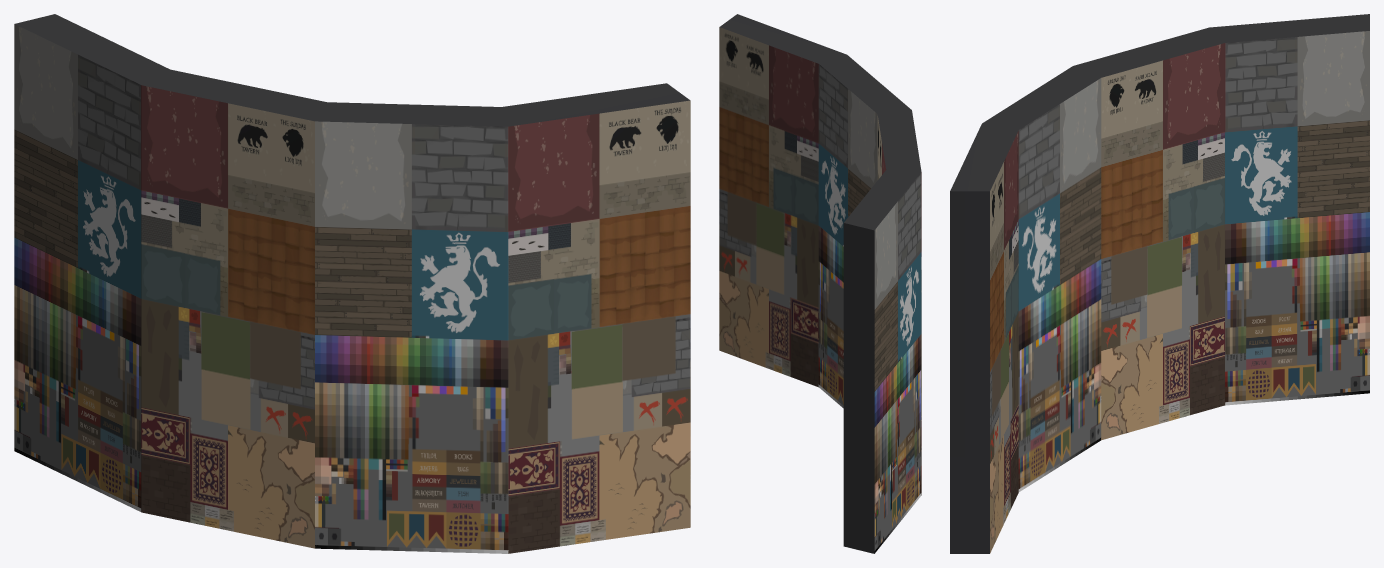
The model's file is kingdom_SM_Bld_Castle_Wall_Corner_L_01.gltf.
3 views of the same model, side by side, from view 1: azimuth 30°, elevation 25°; view 2: azimuth 150°, elevation 25°; view 3: azimuth 270°, elevation 25° (orthographic). The views are drawn at different scales.
Parts seen in each view (by area): view 1: SM_Bld_Castle_Wall_Corner_L_01; view 2: SM_Bld_Castle_Wall_Corner_L_01; view 3: SM_Bld_Castle_Wall_Corner_L_01.
Part boxes in pixels (x1,y1,x2,y2): SM_Bld_Castle_Wall_Corner_L_01: (14, 14, 690, 553); SM_Bld_Castle_Wall_Corner_L_01: (719, 14, 921, 553); SM_Bld_Castle_Wall_Corner_L_01: (950, 14, 1369, 553).
Bounding box in the file's own units: 5.25 × 5 × 5.25.
Materials: 1 (1 with a texture image).
